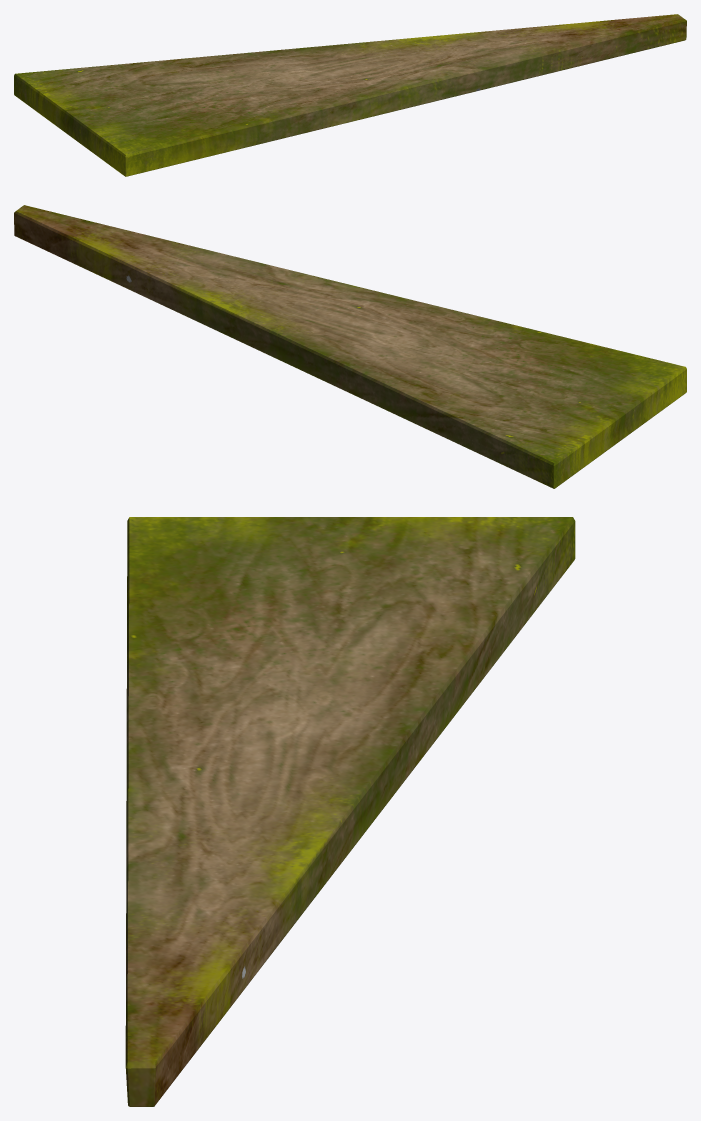
File: PNW Pathway_Curve_18_R_No Grip.glb
3 views of the same model, one above another, from view 1: azimuth 30°, elevation 25°; view 2: azimuth 150°, elevation 25°; view 3: azimuth 270°, elevation 25° (orthographic). The views are drawn at different scales.
Visible parts, largest first — view 1: Curve_18_R_No Grip; view 2: Curve_18_R_No Grip; view 3: Curve_18_R_No Grip.
Part boxes in pixels (bbox=[...]): Curve_18_R_No Grip: bbox=[14, 14, 686, 176]; Curve_18_R_No Grip: bbox=[14, 205, 686, 488]; Curve_18_R_No Grip: bbox=[125, 517, 575, 1106].
Size of the model in its own units: 1.52 by 0.057 by 0.5265.
Materials: 1 (1 with a texture image).
